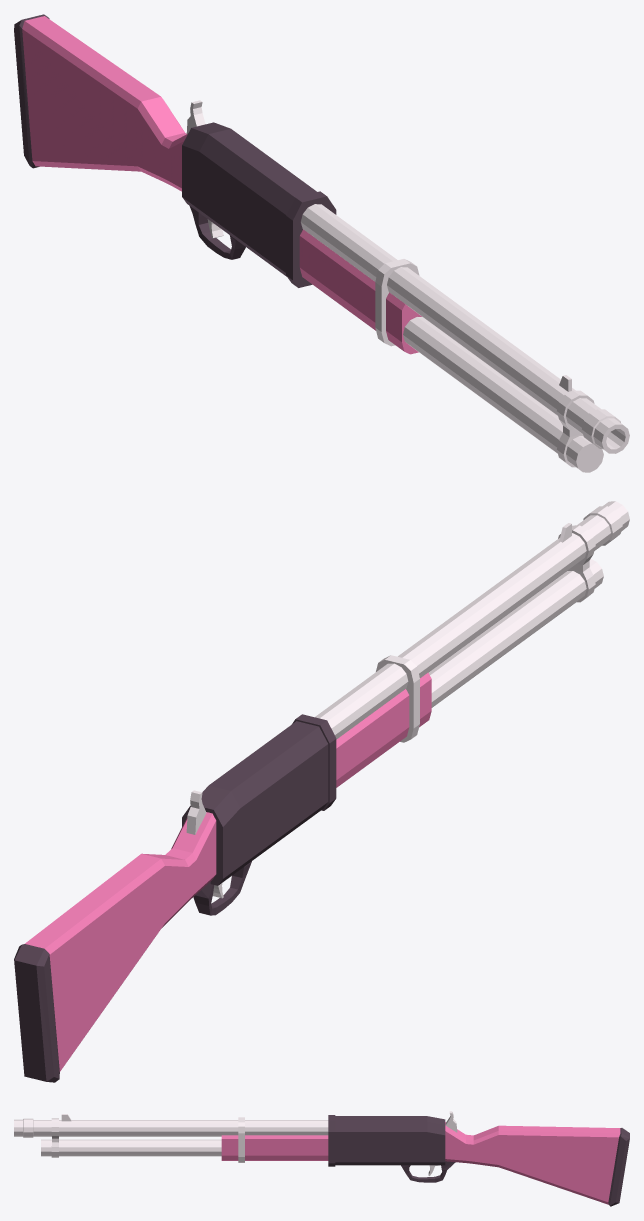
File: Shotgun_2.obj
3 renders of one model, top to bottom at view 1: azimuth 30°, elevation 25°; view 2: azimuth 150°, elevation 25°; view 3: azimuth 270°, elevation 25°, orthographic. The views are drawn at different scales.
Parts seen in each view (by area): view 1: Grip, Body, Hardware; view 2: Grip, Body, Hardware; view 3: Grip, Body, Hardware.
Boxes of the visible parts, <box> form: Grip: <box>22,16,421,354</box>; Body: <box>186,100,629,472</box>; Hardware: <box>14,14,336,287</box>; Grip: <box>25,672,431,1071</box>; Body: <box>186,501,629,898</box>; Hardware: <box>14,714,336,1082</box>; Grip: <box>221,1122,620,1204</box>; Body: <box>14,1111,457,1175</box>; Hardware: <box>328,1115,629,1206</box>.
Size of the model in its own units: 0.2216 by 0.8535 by 5.2.
